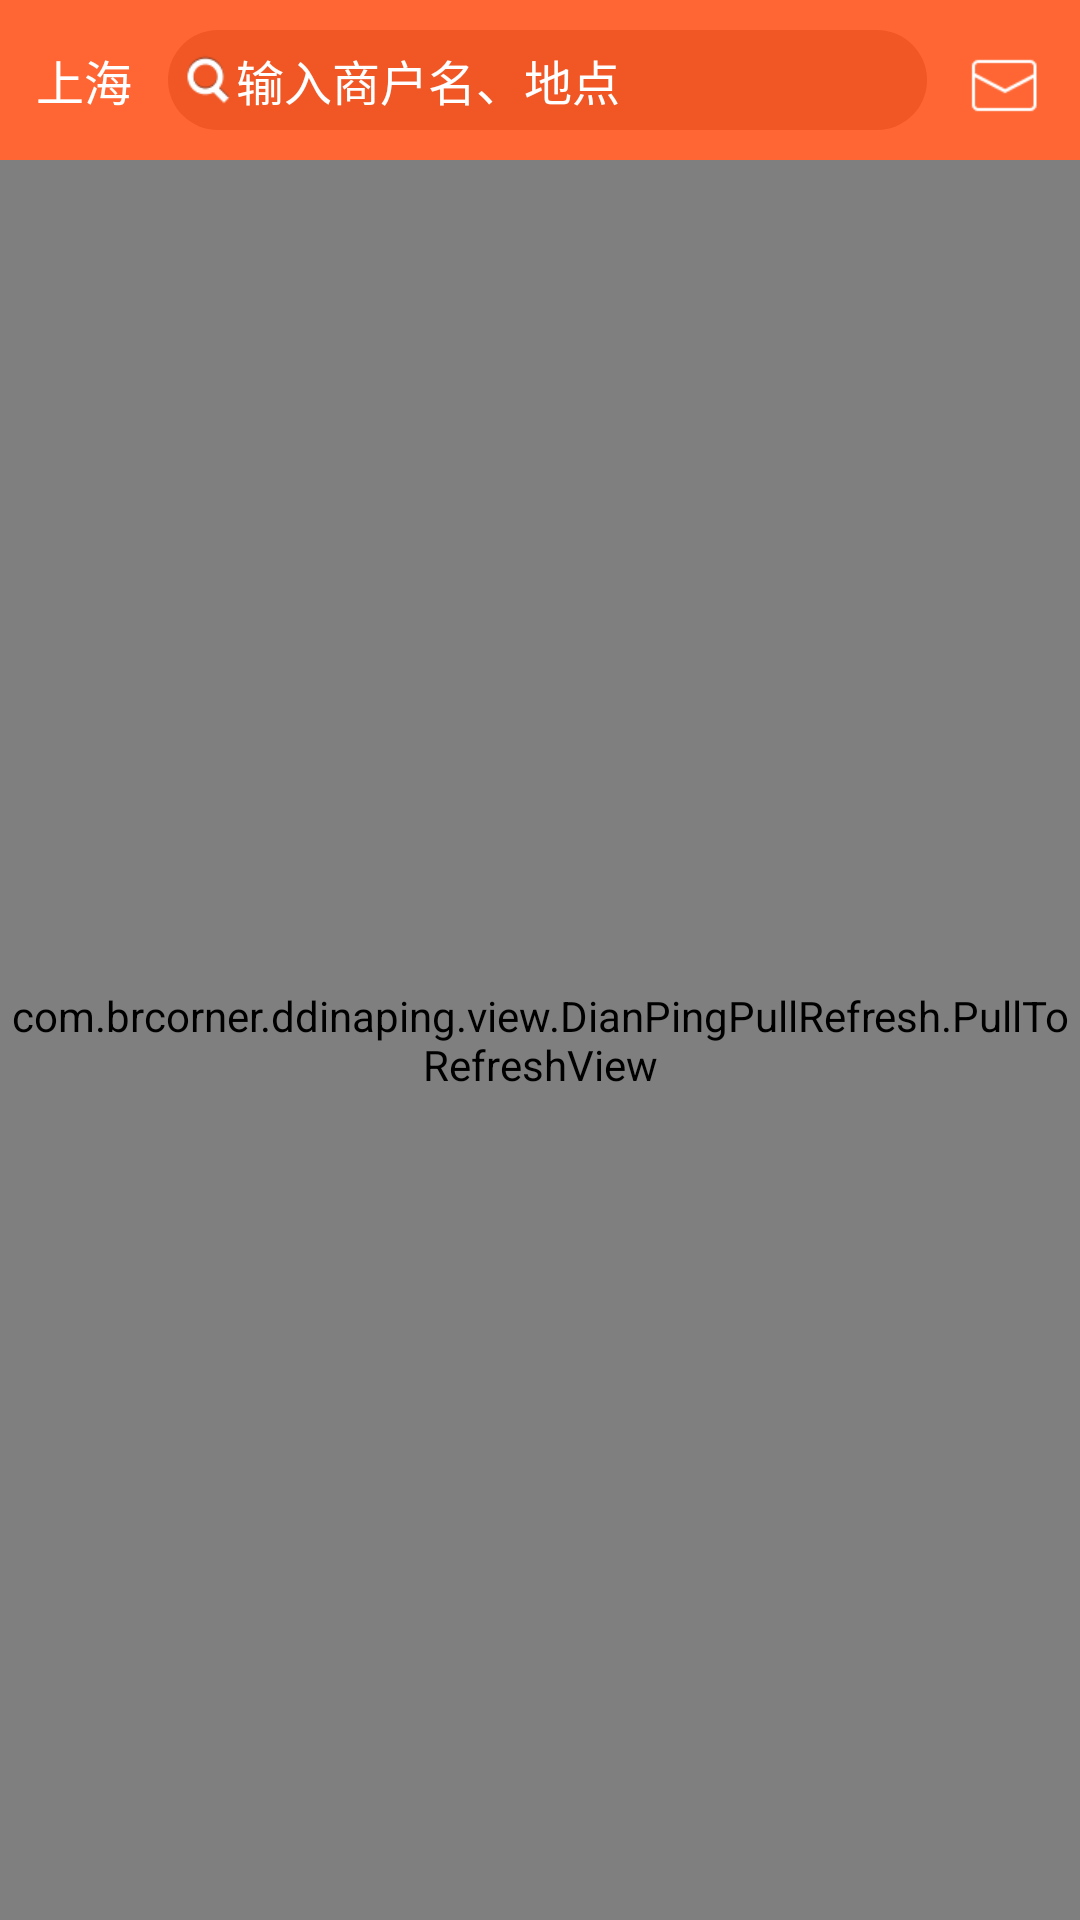

Locate icon controls on the screen. Image size 1080*1920, boxes as detection(x1, y1, x2, y2).
findmain mail off: detection(971, 59, 1037, 112)
